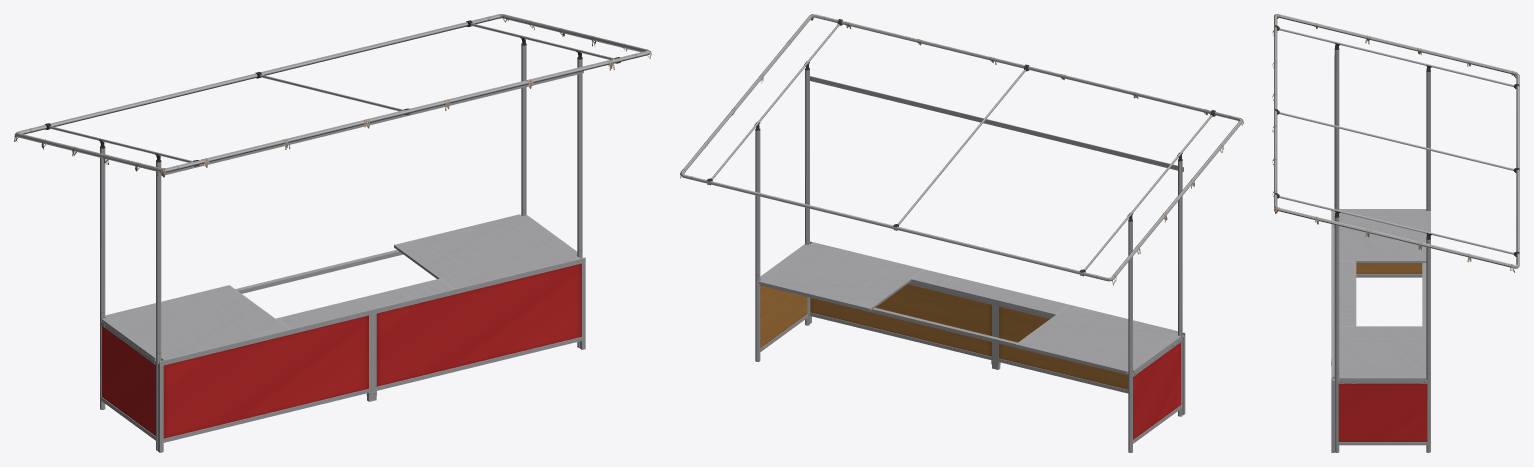
Rendered from jsf_4P_s04_c06_t02.fbx.
3 views of the same model, side by side, from view 1: azimuth 30°, elevation 25°; view 2: azimuth 150°, elevation 25°; view 3: azimuth 270°, elevation 25° (orthographic). The views are drawn at different scales.
Visible parts, largest first — view 1: Base_s04_c06, Table_4P_s04_t02, Pillar4_s04, Rope_4P_s04; view 2: Base_s04_c06, Table_4P_s04_t02, Pillar4_s04; view 3: Table_4P_s04_t02, Pillar4_s04, Base_s04_c06, Rope_4P_s04.
Boxes of the visible parts, left/top/right/bottom form: Base_s04_c06: left=100, top=257, right=585, bottom=452; Table_4P_s04_t02: left=101, top=214, right=579, bottom=364; Pillar4_s04: left=14, top=14, right=649, bottom=450; Rope_4P_s04: left=14, top=14, right=651, bottom=177; Base_s04_c06: left=760, top=241, right=1185, bottom=443; Table_4P_s04_t02: left=758, top=242, right=1181, bottom=376; Pillar4_s04: left=680, top=14, right=1242, bottom=452; Table_4P_s04_t02: left=1332, top=209, right=1430, bottom=383; Pillar4_s04: left=1274, top=14, right=1519, bottom=452; Base_s04_c06: left=1331, top=210, right=1427, bottom=452; Rope_4P_s04: left=1272, top=14, right=1516, bottom=272.
Bounding box in the file's own units: 395 × 243 × 211.
